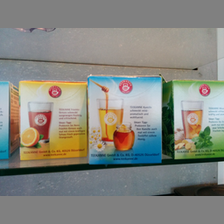tea: (85, 72, 163, 165), (20, 81, 87, 160), (165, 80, 224, 160)
